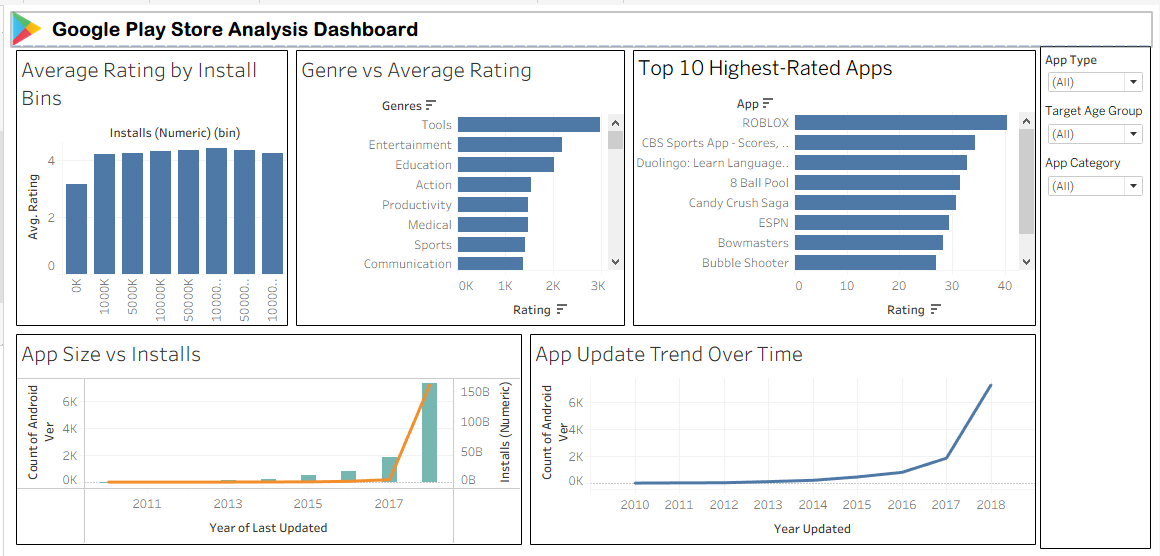

Layout of this report page (visuals, bound fields, positions):
{"tool":"tableau","page":{"name":"Dashboard 1","canvas":[1000,1000],"units":"permille","ordinal":0},"visuals":[{"type":"image","param":"D:/Archis_IMP/Jobaaj/Projects/Tableau/Logo.png","box":[6.9,10.9,39.8,61.6]},{"type":"text","box":[6.9,14.5,986.1,59.8]},{"type":"worksheet","title":"Average Rating by Install Bins","mark":"Bar","rows":["Rating"],"cols":["Installs (Numeric) (bin)"],"box":[6.9,74.3,242.4,514.5]},{"type":"worksheet","title":"Genre vs Average Rating","mark":"Bar","rows":["Genres"],"cols":["Rating"],"box":[249.3,74.3,291.8,514.5]},{"type":"worksheet","title":"Top 10 Highest-Rated Apps","mark":"Automatic","rows":["App"],"cols":["Rating"],"box":[541.1,74.3,355.9,514.5]},{"type":"filter","title":"Top 10 Highest-Rated Apps","param":"[federated.179pyes16o7fjf17vcs8b0irlouy].[none:Type:nk]","box":[897.8,76.1,94.4,94.2]},{"type":"filter","title":"Top 10 Highest-Rated Apps","param":"[federated.179pyes16o7fjf17vcs8b0irlouy].[none:Content Rating:nk]","box":[897.8,170.3,94.4,94.2]},{"type":"filter","title":"Top 10 Highest-Rated Apps","param":"[federated.179pyes16o7fjf17vcs8b0irlouy].[none:Category:nk]","box":[897.8,264.5,94.4,94.2]},{"type":"worksheet","title":"App Size vs Installs","mark":"Automatic","rows":["Android Ver","Calculation_877920472283508736"],"cols":["Last Updated"],"box":[6.9,588.8,445,396.8]},{"type":"worksheet","title":"App Update Trend Over Time","mark":"Line","rows":["Android Ver"],"cols":["Calculation_877920472284573699"],"box":[451.9,588.8,445.1,396.8]}]}

Visuals, with their boxes on the dashboard's canvas, which has no fixed pixel size, in thousandths of its width and height (x1, y1, x2, y2). These are canvas units, not pixel positions in the 1160x556 screenshot, which may show the page scaled, cropped or inside an application window:
image: (left=7, top=11, right=47, bottom=72)
text: (left=7, top=14, right=993, bottom=74)
"Average Rating by Install Bins" worksheet (Bar marks): (left=7, top=74, right=249, bottom=589)
"Genre vs Average Rating" worksheet (Bar marks): (left=249, top=74, right=541, bottom=589)
"Top 10 Highest-Rated Apps" worksheet: (left=541, top=74, right=897, bottom=589)
"Top 10 Highest-Rated Apps" filter: (left=898, top=76, right=992, bottom=170)
"Top 10 Highest-Rated Apps" filter: (left=898, top=170, right=992, bottom=264)
"Top 10 Highest-Rated Apps" filter: (left=898, top=264, right=992, bottom=359)
"App Size vs Installs" worksheet: (left=7, top=589, right=452, bottom=986)
"App Update Trend Over Time" worksheet (Line marks): (left=452, top=589, right=897, bottom=986)
